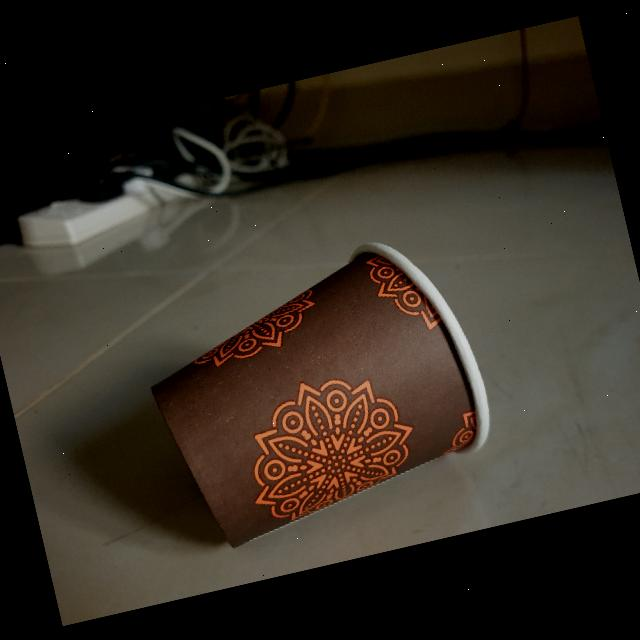trash: (118, 215, 518, 568)
